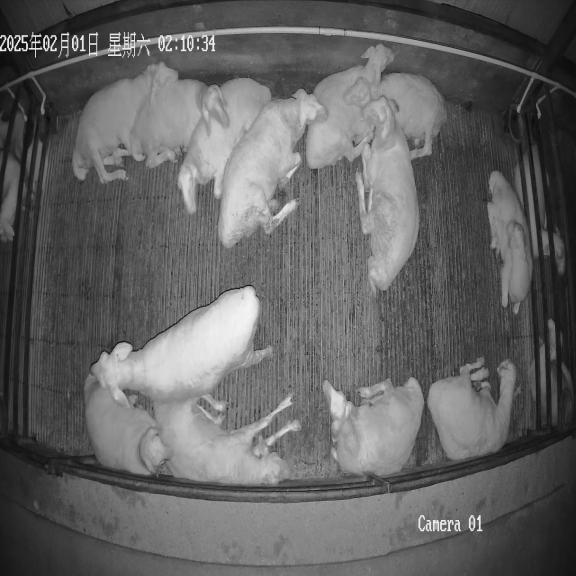lying: (218, 89, 325, 248), (154, 394, 301, 485), (177, 78, 271, 214), (72, 63, 178, 183), (355, 97, 419, 291), (306, 44, 394, 169), (323, 378, 424, 476), (427, 358, 520, 460), (343, 73, 447, 159), (128, 78, 227, 168), (84, 374, 168, 475), (487, 171, 533, 314)
stand: (91, 286, 272, 405)
